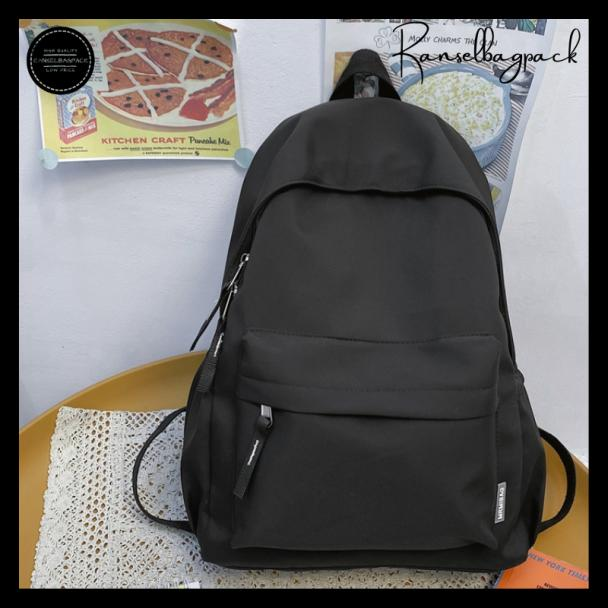Tas: (178, 98, 535, 562)
